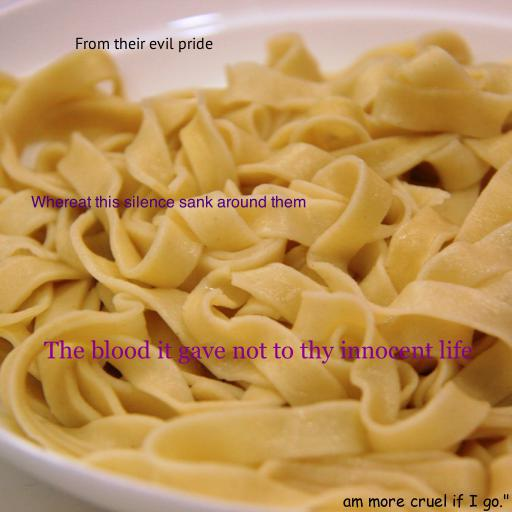Apple Chancery: (30, 195, 306, 208)
Comic Sans MS: (342, 493, 510, 511)
Georgia: (43, 340, 473, 364)
PT Sans: (75, 37, 213, 53)
